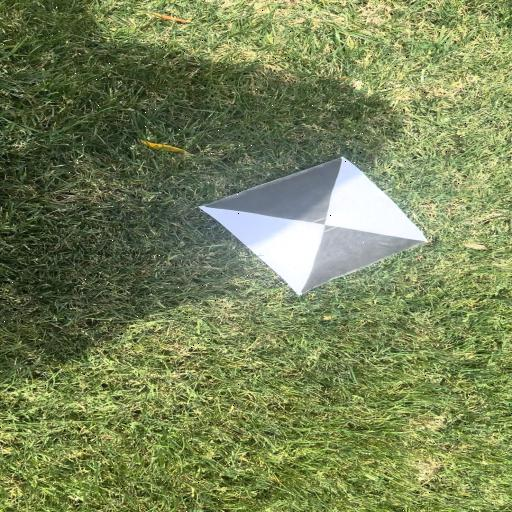target: (199, 156, 429, 296)
